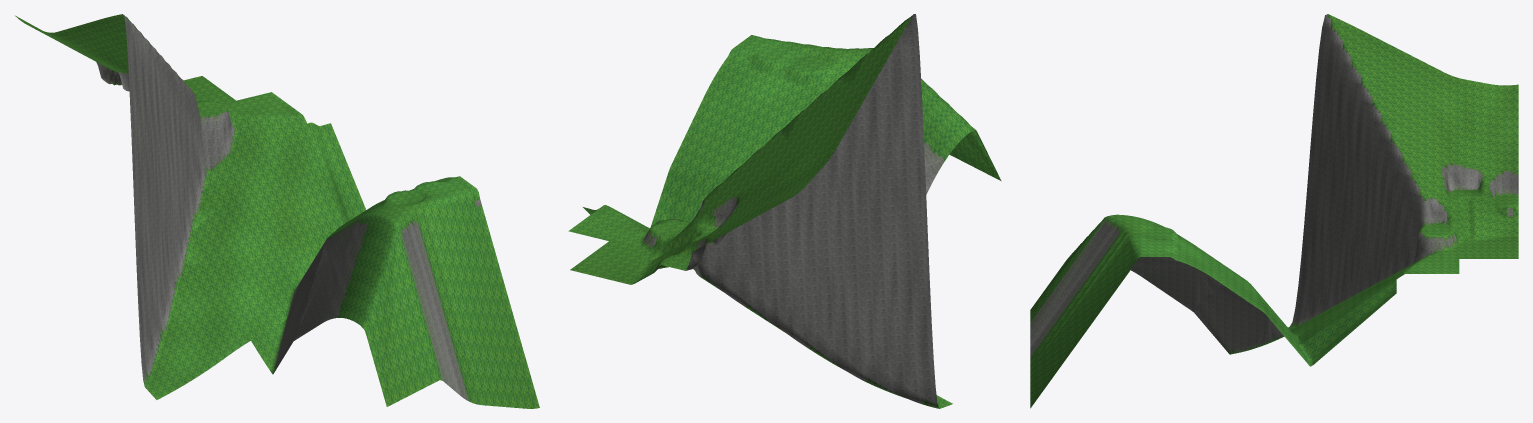
The model's file is payo_land_near_ne_lod1.glb.
The picture shows the model from 3 angles, left to right: view 1: azimuth 30°, elevation 25°; view 2: azimuth 150°, elevation 25°; view 3: azimuth 270°, elevation 25°; orthographic projection. The views are drawn at different scales.
Parts seen in each view (by area): view 1: payo_land_near_ne; view 2: payo_land_near_ne; view 3: payo_land_near_ne.
Part boxes in pixels (box(x1,y1,x2,y2)): payo_land_near_ne: box(15, 14, 539, 408); payo_land_near_ne: box(568, 14, 1001, 408); payo_land_near_ne: box(1030, 14, 1518, 408).
Size of the model in its own units: 126 by 176 by 246.
Materials: 2 (2 with a texture image).
